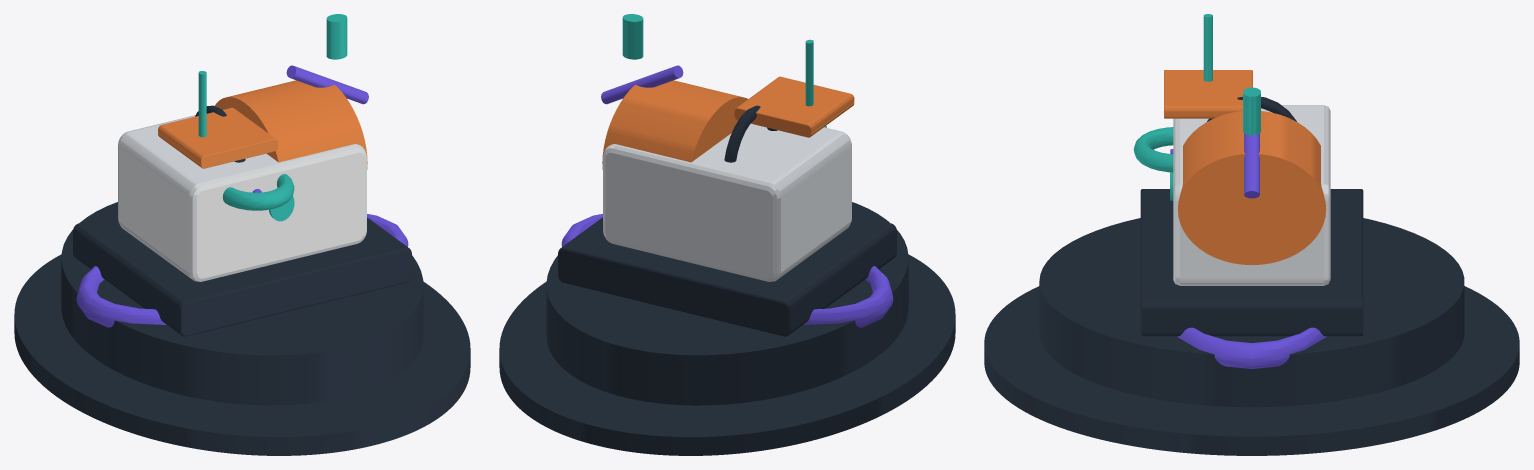
Rendered from 1088_古文观止_纺车.glb.
3 renders of one model, left to right at view 1: azimuth 30°, elevation 25°; view 2: azimuth 150°, elevation 25°; view 3: azimuth 270°, elevation 25°, orthographic. The views are drawn at different scales.
Visible parts, largest first — view 1: card_1088; view 2: card_1088; view 3: card_1088.
Boxes of the visible parts, <box> form: card_1088: <box>14,14,470,455</box>; card_1088: <box>499,14,955,455</box>; card_1088: <box>984,14,1519,455</box>.
Bounding box in the file's own units: 1.27 × 1 × 1.53.
